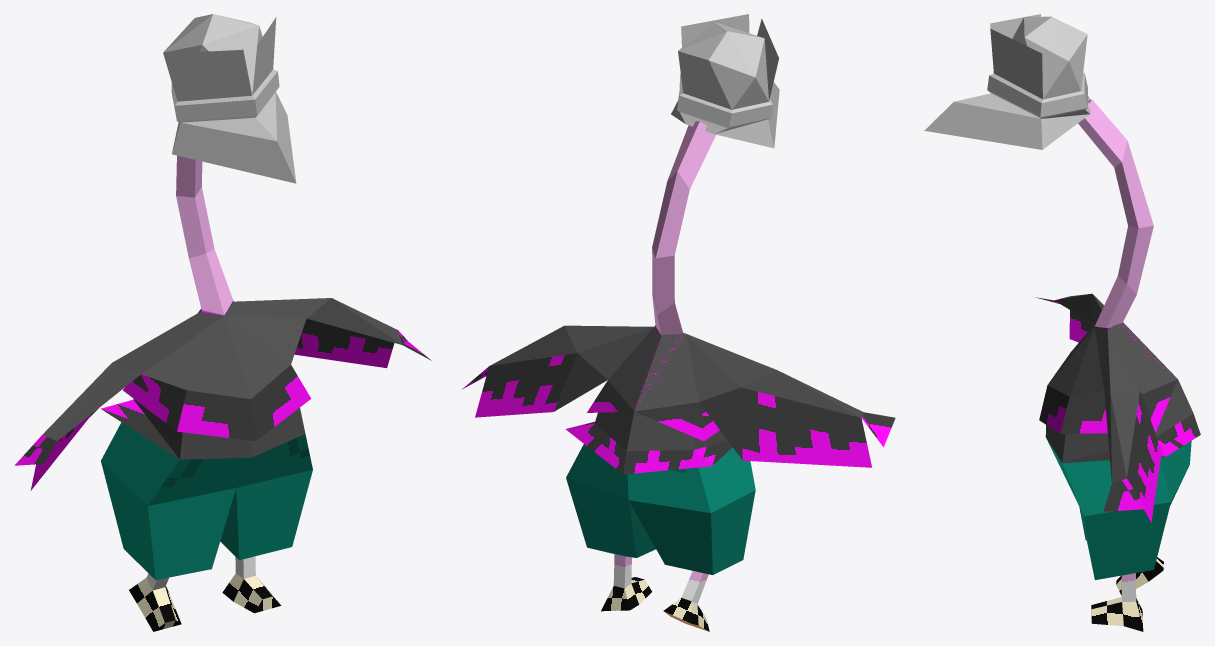
File: ost37.obj
3 views of the same model, side by side, from view 1: azimuth 30°, elevation 25°; view 2: azimuth 150°, elevation 25°; view 3: azimuth 270°, elevation 25° (orthographic). The views are drawn at different scales.
Parts seen in each view (by area): view 1: Cube, Icosphere; view 2: Cube, Icosphere; view 3: Cube, Icosphere.
Part boxes in pixels (<box>): Cube: <box>15,155,431,631</box>; Icosphere: <box>163,14,296,183</box>; Cube: <box>462,121,895,631</box>; Icosphere: <box>671,14,779,148</box>; Cube: <box>1036,99,1200,631</box>; Icosphere: <box>924,14,1090,149</box>.
Size of the model in its own units: 11.49 by 16.19 by 7.02.
